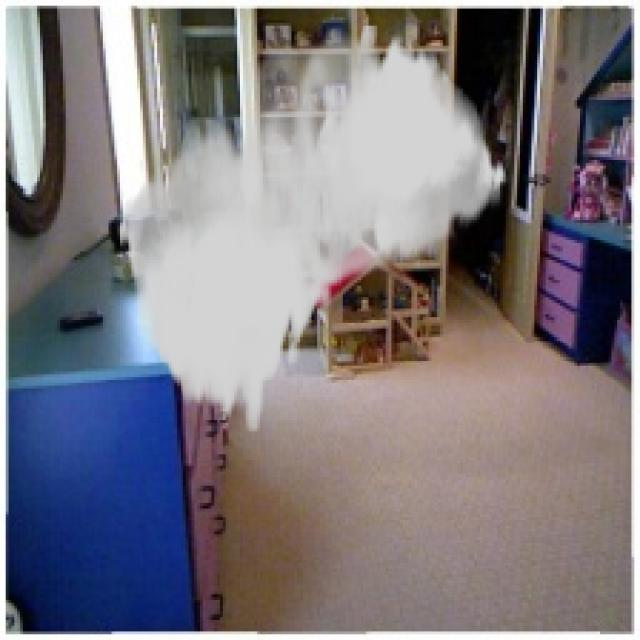smoke: (117, 23, 509, 431)
